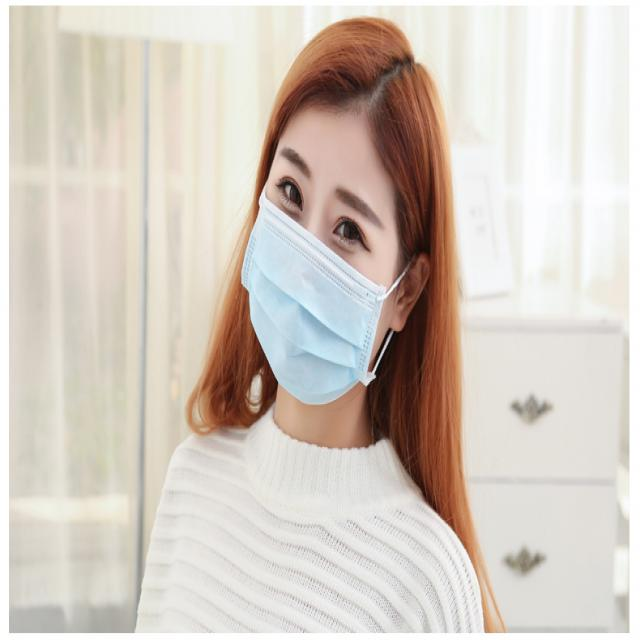mask: (246, 110, 390, 403)
